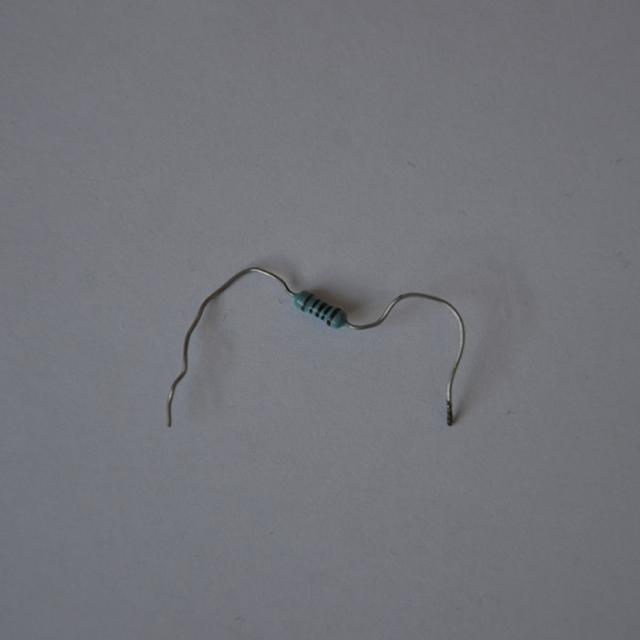Resistor Carbon-Film: (291, 285, 354, 335)
